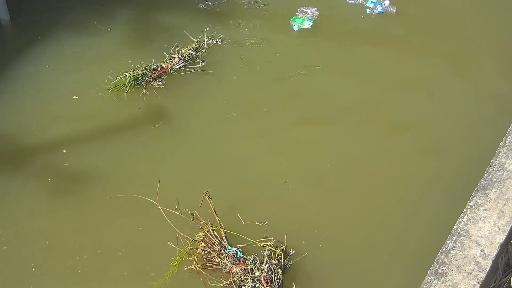plastic: (272, 5, 318, 31), (330, 0, 399, 4), (357, 8, 395, 14)
twig: (128, 174, 298, 288), (99, 27, 222, 95)
